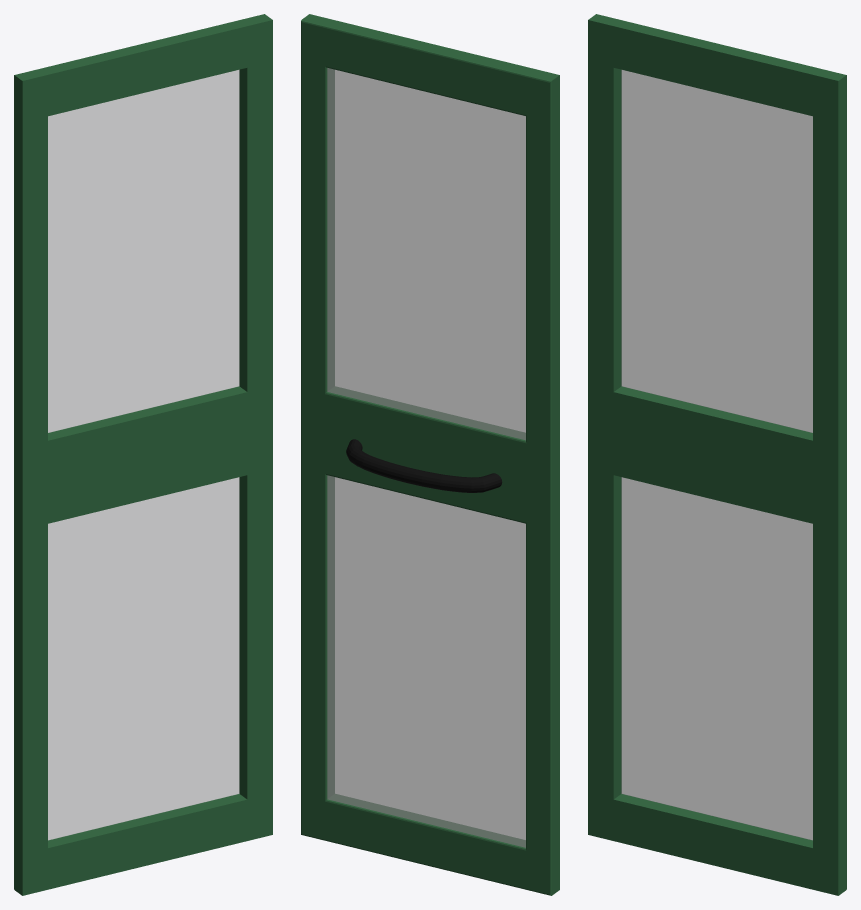
Rendered from PortaM_sx.fbx.
The picture shows the model from 3 angles, left to right: view 1: azimuth 30°, elevation 25°; view 2: azimuth 150°, elevation 25°; view 3: azimuth 330°, elevation 25°; orthographic projection.
Visible parts, largest first — view 1: porta_d'ingresso.004; view 2: porta_d'ingresso.004; view 3: porta_d'ingresso.004.
Boxes of the visible parts, x1,y1,x2,y2 form: porta_d'ingresso.004: (14,14,272,895); porta_d'ingresso.004: (301,14,559,895); porta_d'ingresso.004: (588,14,846,895).
Bounding box in the file's own units: 114 × 355 × 23.12.
